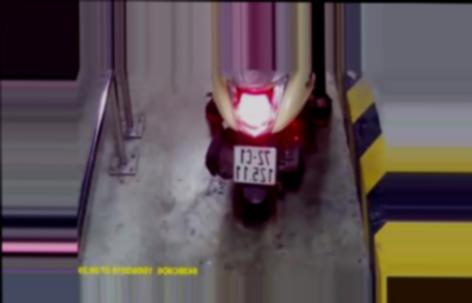License_Plate: (228, 142, 283, 187)
